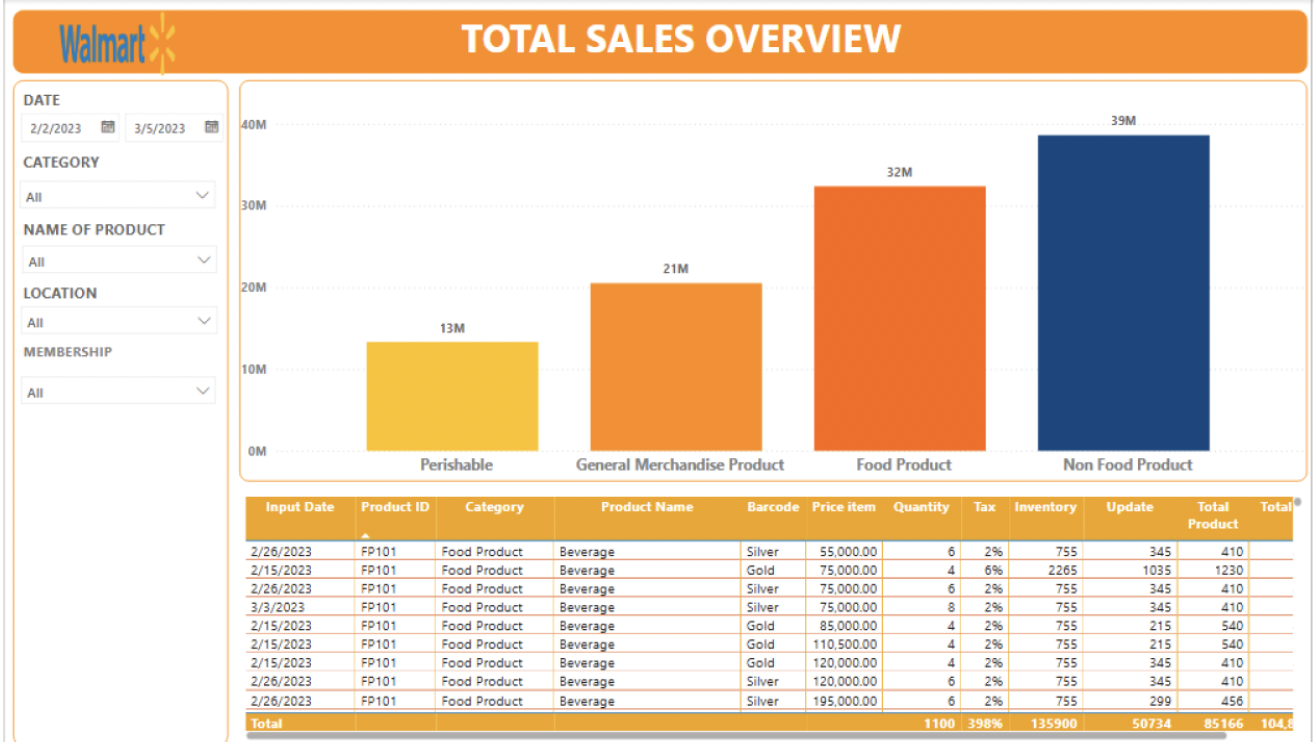

The page's visual inventory and layout, read from the dashboard file:
{"tool":"powerbi","page":{"name":"TOTAL SALES","canvas":[1280,720],"ordinal":2},"visuals":[{"type":"textbox","box":[7.7,10.7,1269.3,61.2],"z":0},{"type":"image","box":[1.5,6.1,217.4,72],"z":1000},{"type":"clusteredColumnChart","fields":{"Y":["Sum(Master (Filled).Total Payment)"],"Category":["Master (Filled).Category"]},"box":[229.7,78.1,1047.3,387.4],"z":2000},{"type":"tableEx","fields":{"Values":["Persediaan.Input Date","Master (Filled).Product ID","Master (Filled).Category","Master (Filled).Name of Product","Master (Filled).Barcode","Persediaan.Price item","Sum(Master (Filled).Quantity )","Sum(Persediaan.Tax)","Sum(Persediaan.Inventory)","Sum(Persediaan.Update )","Sum(Persediaan.Total Product)","Sum(Persediaan.Total Payment)"]},"box":[229.7,474.6,1047.3,245],"z":3000},{"type":"textbox","box":[7.7,78.1,211.3,641.5],"z":4000},{"type":"slicer","fields":{"Values":["Master (Filled).Input Date"]},"box":[7.7,104.1,211.3,41.3],"z":5000},{"type":"textbox","box":[16.6,85.4,72.7,29.3],"z":6000},{"type":"slicer","fields":{"Values":["Master (Filled).Category"]},"box":[10.7,166.9,202.1,39.8],"z":7000},{"type":"textbox","box":[16.6,145.3,94.3,29.3],"z":8000},{"type":"textbox","box":[16.8,209.8,151.6,21.4],"z":9000},{"type":"slicer","fields":{"Values":["Master (Filled).Name of Product"]},"box":[12.2,231.2,202.1,39.8],"z":10000},{"type":"textbox","box":[16.8,271,93.4,29.1],"z":11000},{"type":"slicer","fields":{"Values":["Master (Filled).Domicile"]},"box":[10.2,290.7,202.7,39.5],"z":12000},{"type":"textbox","box":[16.8,330.7,121,29.1],"z":13000},{"type":"slicer","fields":{"Values":["Master (Filled).Barcode"]},"box":[10.2,358.2,201.4,40.8],"z":14000},{"type":"slicer","fields":{"Values":["Master (Filled).Category"]},"box":[9.2,170,202.1,39.8],"z":15000},{"type":"slicer","fields":{"Values":["Master (Filled).Name of Product"]},"box":[11.7,232.5,201.3,39.1],"z":16000}]}

Visuals, with their boxes in screenshot pixels (x1, y1, x2, y2), scaled from the page's 1280x720 canvas onto the 1314x752 screenshot:
textbox: bbox=(8, 11, 1311, 75)
image: bbox=(2, 6, 225, 82)
clusteredColumnChart - Sum(Master (Filled).Total Payment) x Master (Filled).Category: bbox=(236, 82, 1311, 486)
tableEx - Persediaan.Input Date x Master (Filled).Product ID: bbox=(236, 496, 1311, 751)
textbox: bbox=(8, 82, 225, 751)
slicer - Master (Filled).Input Date: bbox=(8, 109, 225, 152)
textbox: bbox=(17, 89, 92, 120)
slicer - Master (Filled).Category: bbox=(11, 174, 218, 216)
textbox: bbox=(17, 152, 114, 182)
textbox: bbox=(17, 219, 173, 241)
slicer - Master (Filled).Name of Product: bbox=(13, 241, 220, 283)
textbox: bbox=(17, 283, 113, 313)
slicer - Master (Filled).Domicile: bbox=(10, 304, 219, 345)
textbox: bbox=(17, 345, 141, 376)
slicer - Master (Filled).Barcode: bbox=(10, 374, 217, 417)
slicer - Master (Filled).Category: bbox=(9, 178, 217, 219)
slicer - Master (Filled).Name of Product: bbox=(12, 243, 219, 284)
